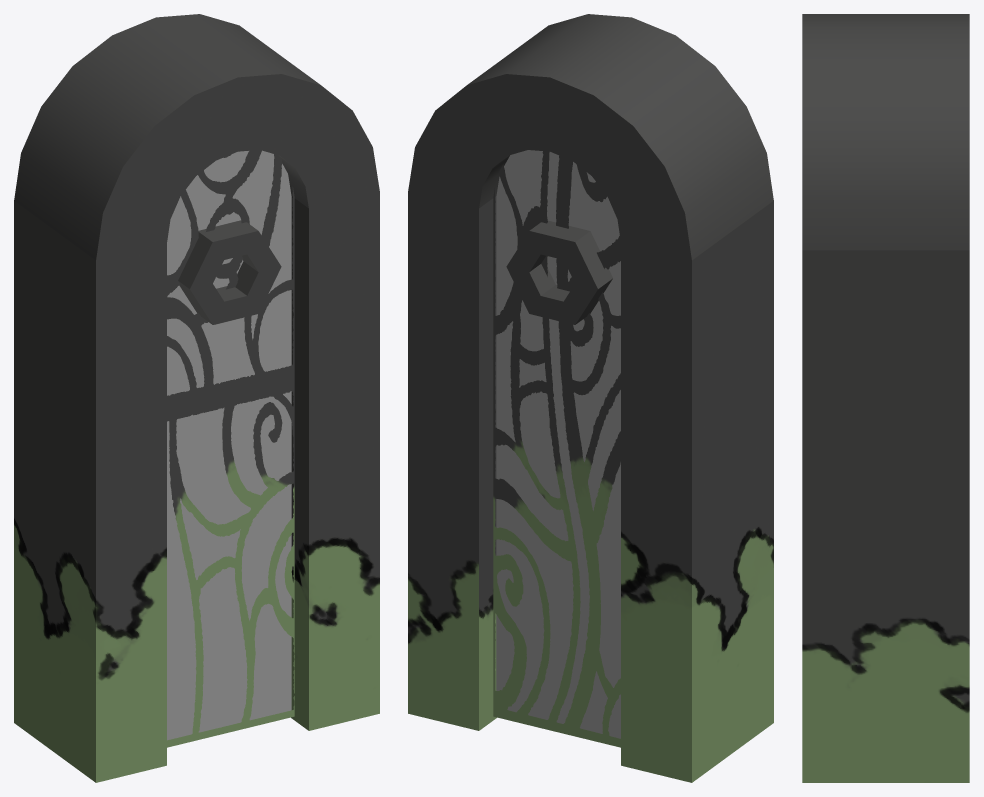
The model's file is Ancient_Pillar.fbx.
The picture shows the model from 3 angles, left to right: view 1: azimuth 30°, elevation 25°; view 2: azimuth 150°, elevation 25°; view 3: azimuth 270°, elevation 25°; orthographic projection.
Parts seen in each view (by area): view 1: Pillar, Ligth; view 2: Pillar, Ligth; view 3: Pillar.
Boxes of the visible parts, left/top/right/bottom form: Pillar: left=14, top=14, right=379, bottom=782; Ligth: left=167, top=150, right=291, bottom=740; Pillar: left=408, top=14, right=773, bottom=782; Ligth: left=496, top=150, right=620, bottom=738; Pillar: left=802, top=14, right=969, bottom=782.
Bounding box in the file's own units: 4 × 9.03 × 2.
